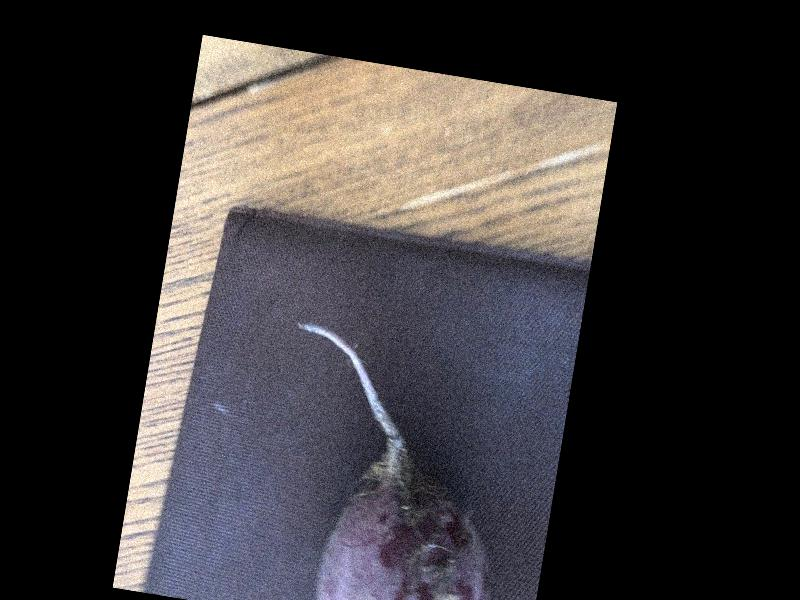Beet: (253, 321, 528, 600)
